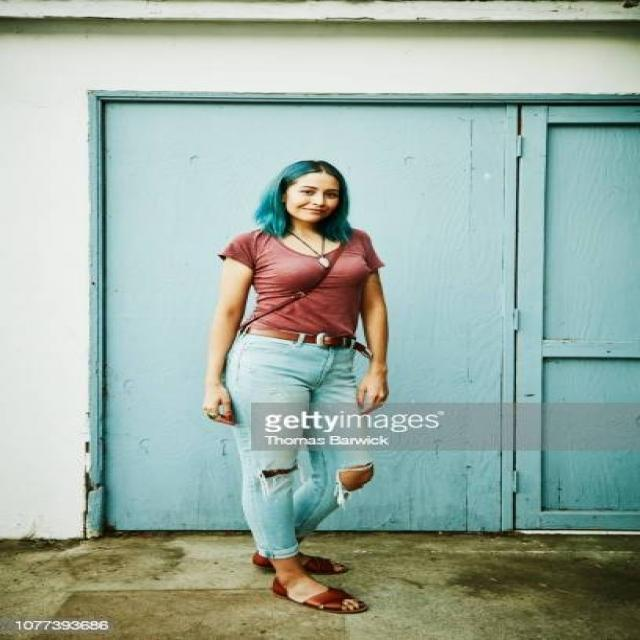walking: (193, 159, 415, 620)
